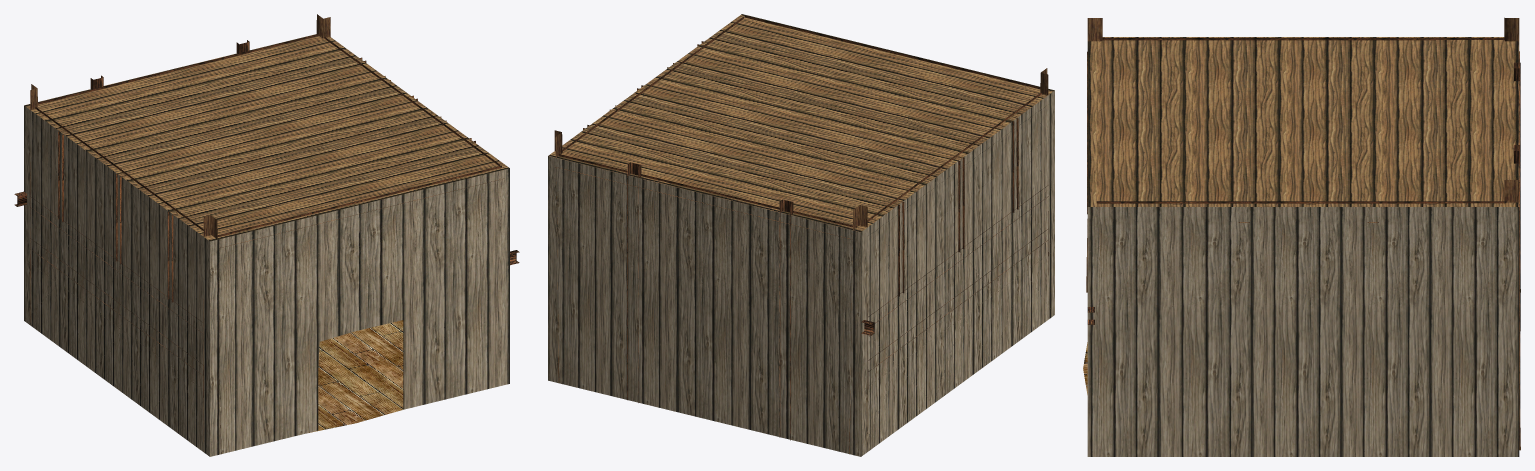
Rendered from LAKETOWN_WAREHOUSE1_PS_WH1_SMROOM074__GX.fbx.
3 views of the same model, side by side, from view 1: azimuth 30°, elevation 25°; view 2: azimuth 150°, elevation 25°; view 3: azimuth 270°, elevation 25° (orthographic). The views are drawn at different scales.
Visible parts, largest first — view 1: LAKETOWN_WAREHOUSE1_PS_WH1_SMROOM074__GX; view 2: LAKETOWN_WAREHOUSE1_PS_WH1_SMROOM074__GX; view 3: LAKETOWN_WAREHOUSE1_PS_WH1_SMROOM074__GX.
Part boxes in pixels (x1,y1,x2,y2): LAKETOWN_WAREHOUSE1_PS_WH1_SMROOM074__GX: [14, 14, 519, 456]; LAKETOWN_WAREHOUSE1_PS_WH1_SMROOM074__GX: [548, 14, 1054, 456]; LAKETOWN_WAREHOUSE1_PS_WH1_SMROOM074__GX: [1083, 17, 1520, 456].
Bounding box in the file's own units: 106772 × 75219 × 109120.
Materials: 7 (7 with a texture image).
